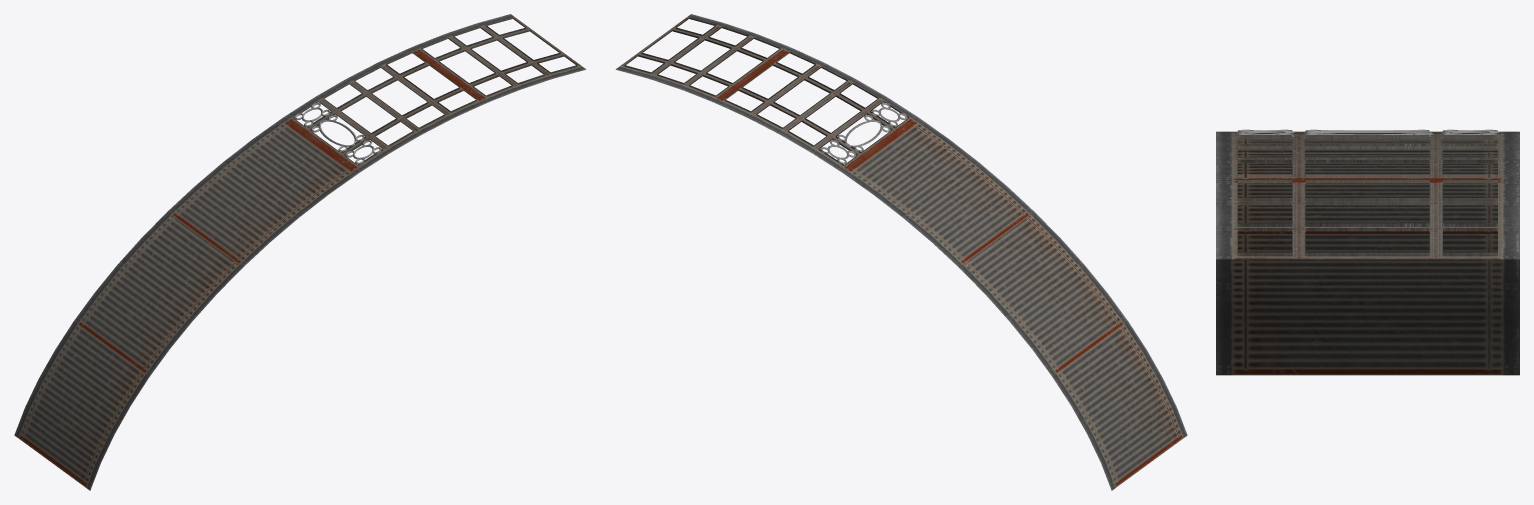
File: SM_Roof.FBX
The picture shows the model from 3 angles, left to right: view 1: azimuth 30°, elevation 25°; view 2: azimuth 150°, elevation 25°; view 3: azimuth 270°, elevation 25°; orthographic projection. The views are drawn at different scales.
Visible parts, largest first — view 1: SM_Roof; view 2: SM_Roof; view 3: SM_Roof.
Boxes of the visible parts, x1,y1,x2,y2 form: SM_Roof: [14, 14, 586, 490]; SM_Roof: [615, 14, 1187, 490]; SM_Roof: [1216, 129, 1519, 375].
Bounding box in the file's own units: 1509 × 400 × 877.
